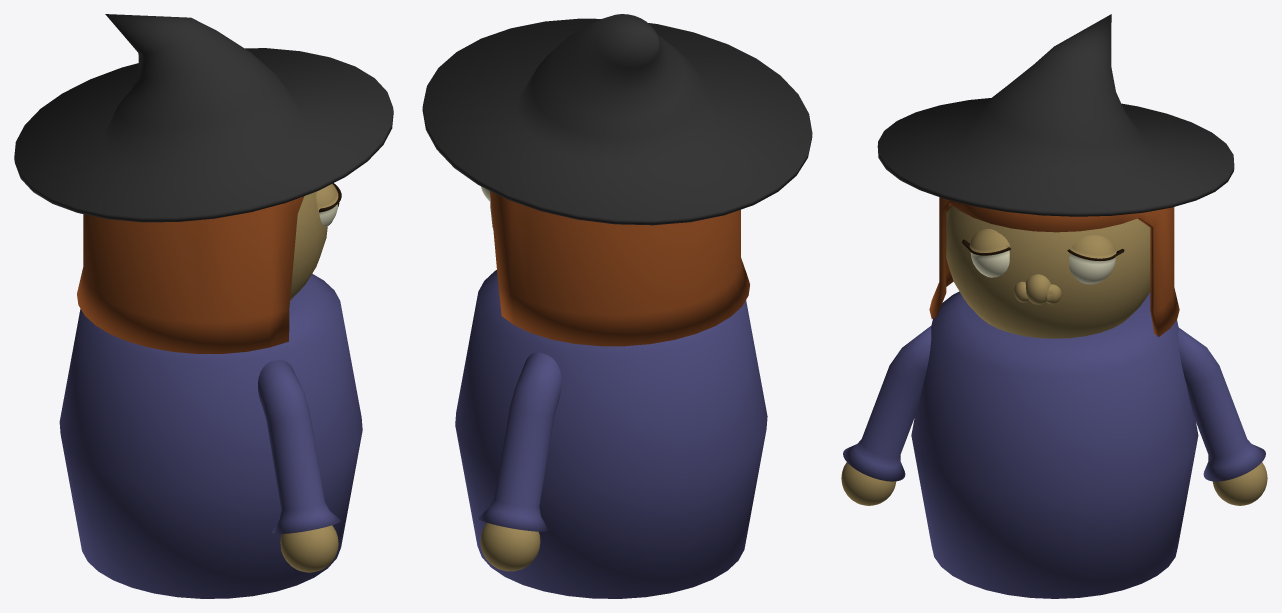
Rendered from WitchCharacter.fbx.
3 renders of one model, left to right at view 1: azimuth 30°, elevation 25°; view 2: azimuth 150°, elevation 25°; view 3: azimuth 270°, elevation 25°, orthographic. The views are drawn at different scales.
Visible parts, largest first — view 1: Witch; view 2: Witch; view 3: Witch.
Boxes of the visible parts, left/top/right/bottom form: Witch: left=14, top=14, right=393, bottom=598; Witch: left=422, top=14, right=812, bottom=598; Witch: left=841, top=14, right=1267, bottom=598.
Bounding box in the file's own units: 291 × 460 × 346.
